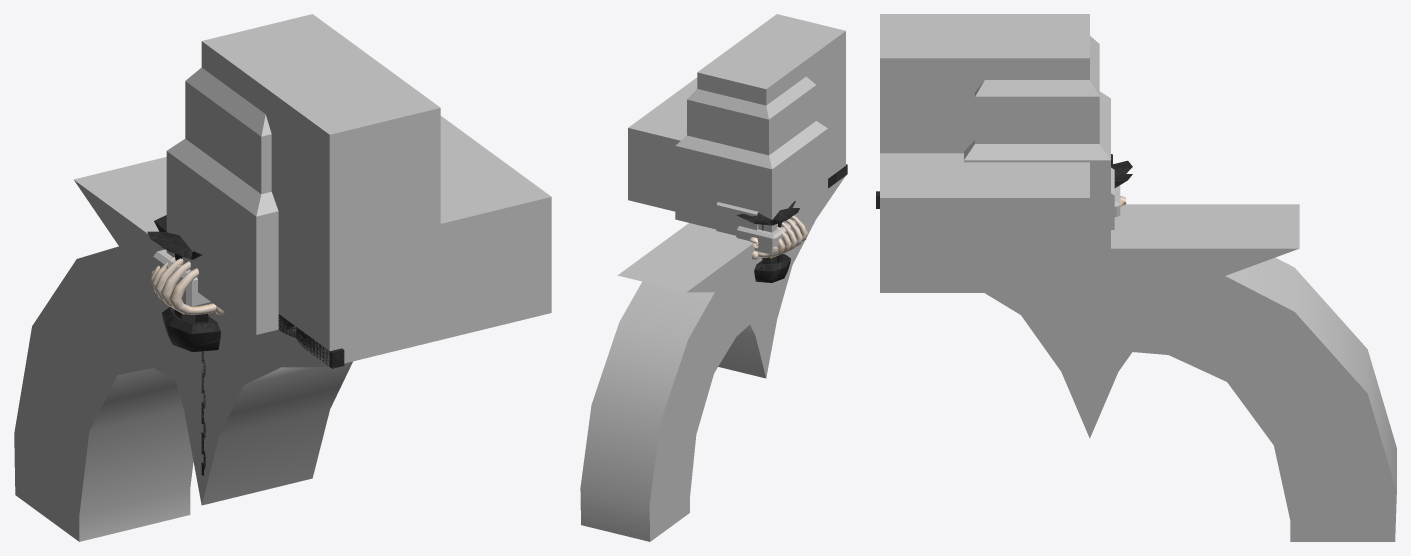
The model's file is Platform.fbx.
The picture shows the model from 3 angles, left to right: view 1: azimuth 30°, elevation 25°; view 2: azimuth 150°, elevation 25°; view 3: azimuth 270°, elevation 25°; orthographic projection. The views are drawn at different scales.
Parts seen in each view (by area): view 1: CaveWallC, PillarBeamB, PillarA, CaveWallBeamB, WalkFloorB, WalkFloorA, CaveWallBeamA, PillarB, LampCeil, RibBone, CageWallB, PillarSmallB; view 2: PillarBeamB, PillarA, CaveWallC, CaveWallBeamA, WalkFloorA, WalkFloorA3, CaveWallBeamB, LampCeil, BrickA, RibBone, PillarSmallB, PillarB; view 3: PillarBeamB, WalkFloorA, CaveWallC, CaveWallBeamA, PillarA, WalkFloorB, CaveWallBeamB, WalkFloorA3, PillarB.
Boxes of the visible parts, x1,y1,x2,y2 form: CaveWallC: (201,14,440,365); PillarBeamB: (14,241,201,541); PillarA: (166,14,373,334); CaveWallBeamB: (201,312,352,505); WalkFloorB: (279,197,551,366); WalkFloorA: (280,116,551,360); CaveWallBeamA: (73,157,201,504); PillarB: (201,15,375,96); LampCeil: (147,215,220,352); RibBone: (150,257,224,314); CageWallB: (278,314,344,368); PillarSmallB: (153,249,212,306); PillarBeamB: (580,256,766,541); PillarA: (675,43,827,232); CaveWallC: (697,14,845,178); CaveWallBeamA: (617,223,766,378); WalkFloorA: (628,77,845,211); WalkFloorA3: (632,115,833,206); CaveWallBeamB: (766,176,845,376); LampCeil: (736,201,799,282); BrickA: (716,202,758,235); RibBone: (752,215,807,259); PillarSmallB: (736,219,796,255); PillarB: (700,53,805,104); PillarBeamB: (1133,257,1396,541); WalkFloorA: (880,153,1089,292); CaveWallC: (880,14,1089,153); CaveWallBeamA: (1090,204,1299,437); PillarA: (964,14,1110,257); WalkFloorB: (880,198,1089,292); CaveWallBeamB: (985,293,1089,438); WalkFloorA3: (880,153,1076,292); PillarB: (985,14,1089,79).
Size of the model in its own units: 122 by 248 by 254.
